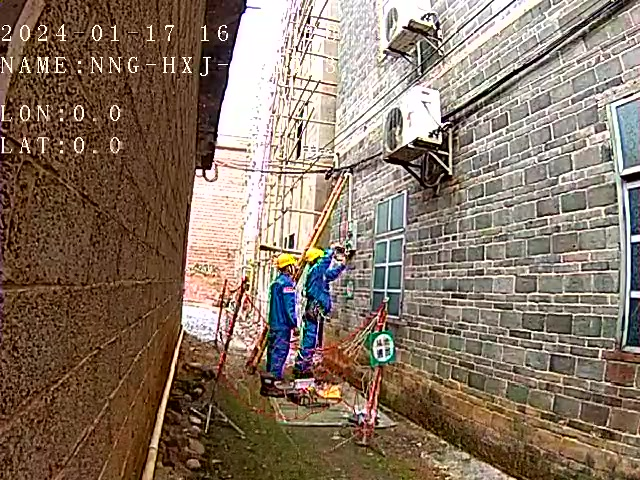downsuit: (294, 325, 322, 370), (268, 331, 292, 378)
halt: (277, 254, 300, 277), (304, 246, 325, 265)
hand: (331, 240, 343, 252)
intosign: (368, 326, 397, 368)
person: (293, 241, 353, 376), (257, 252, 302, 397)
upsuit: (305, 250, 343, 323), (268, 277, 299, 329)
worksign: (344, 279, 359, 301)
